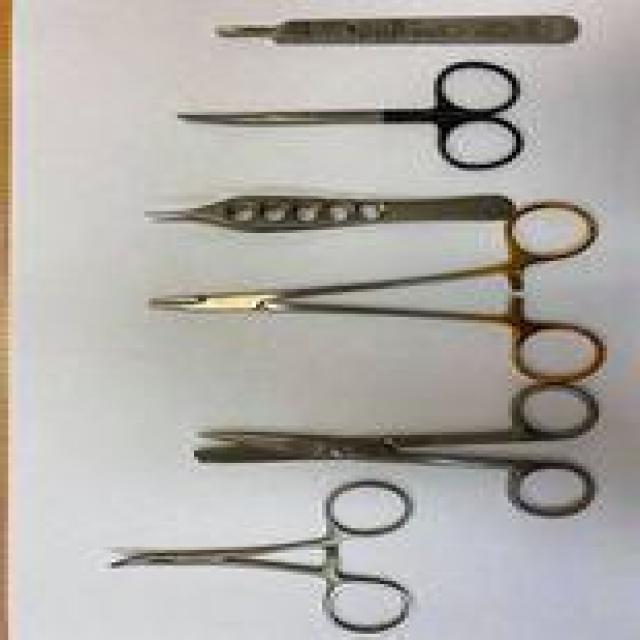Forceps: (140, 193, 516, 233)
Hemostat: (107, 478, 413, 634)
Iris: (173, 59, 524, 174)
Mayo_metz: (190, 379, 599, 519)
Scalpel: (210, 12, 582, 50)
